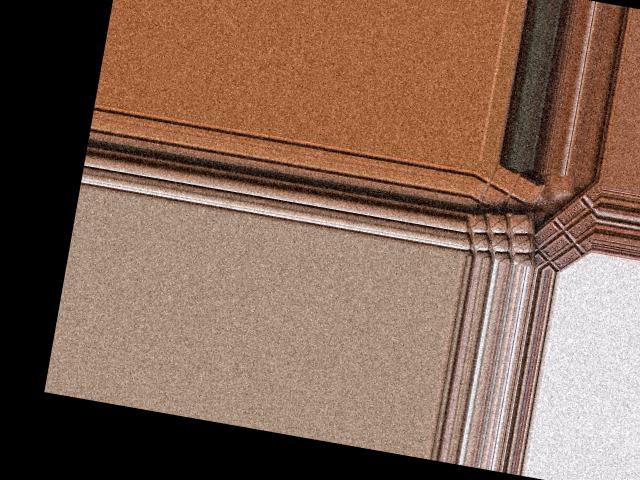chocolate: (465, 165, 544, 233)
